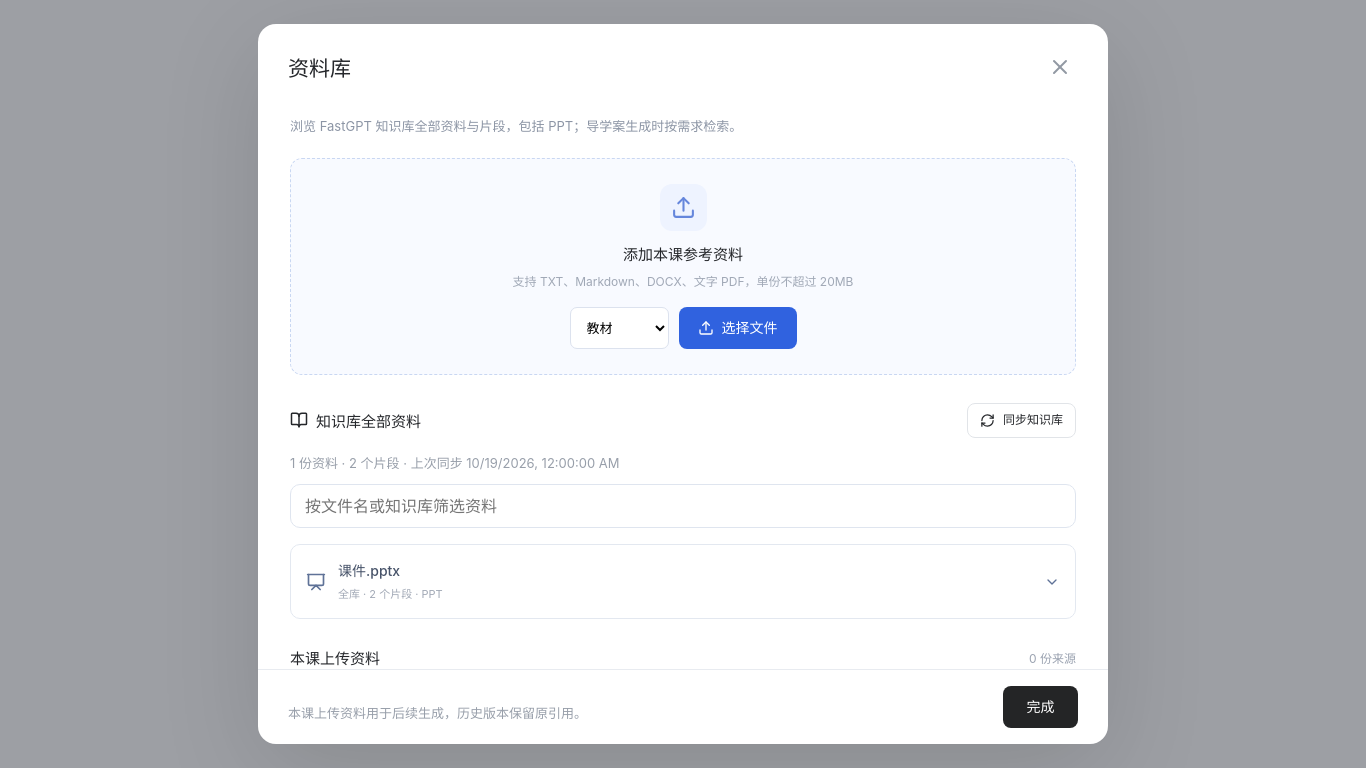
Scenario: library shows all knowledge chunks and PPT original rather than session recall
The width and height of the screenshot is (1366, 768).
Click the button "课件.pptx 全库 · 2 个片段 · PPT": coordinates (369, 570) [291, 545, 1075, 618]
(page scrolled)
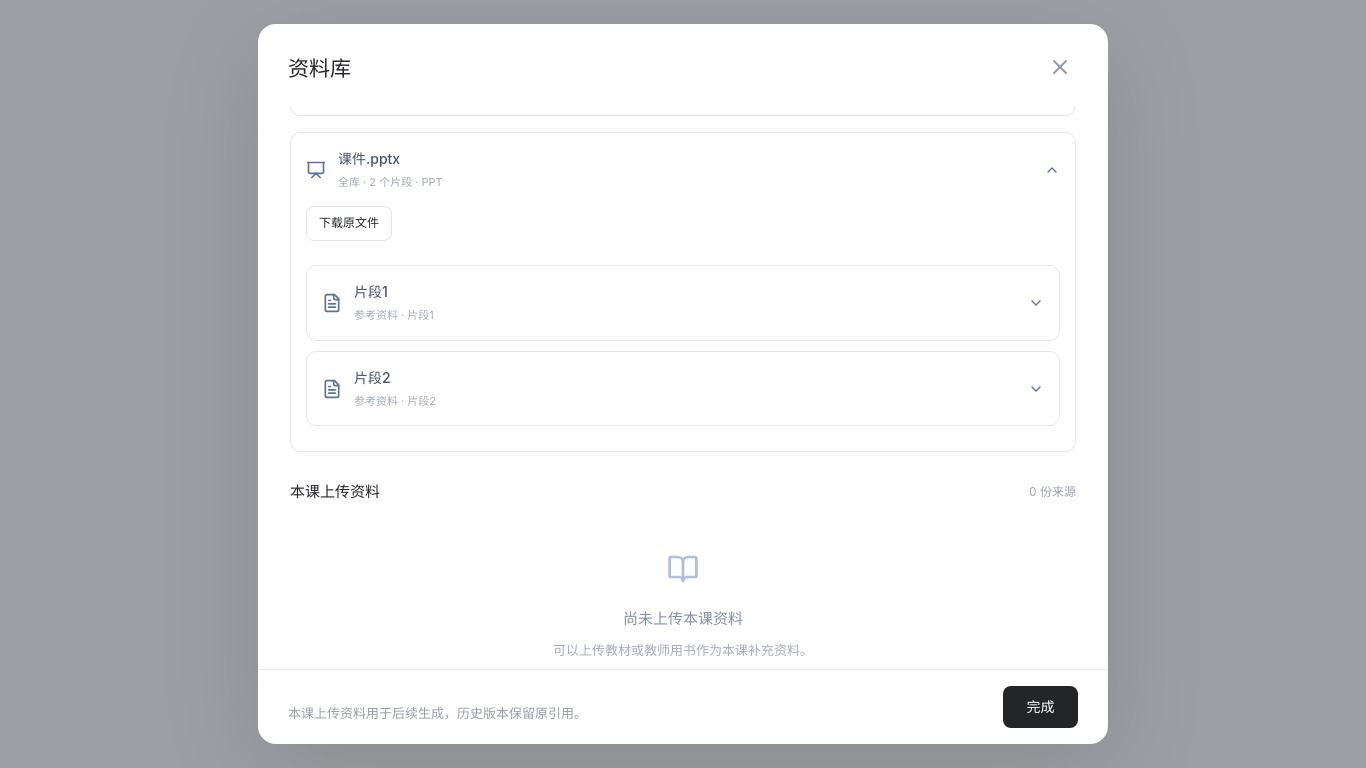
Click the button "片段2 参考资料 · 片段2": coordinates (372, 377) [307, 352, 1059, 426]
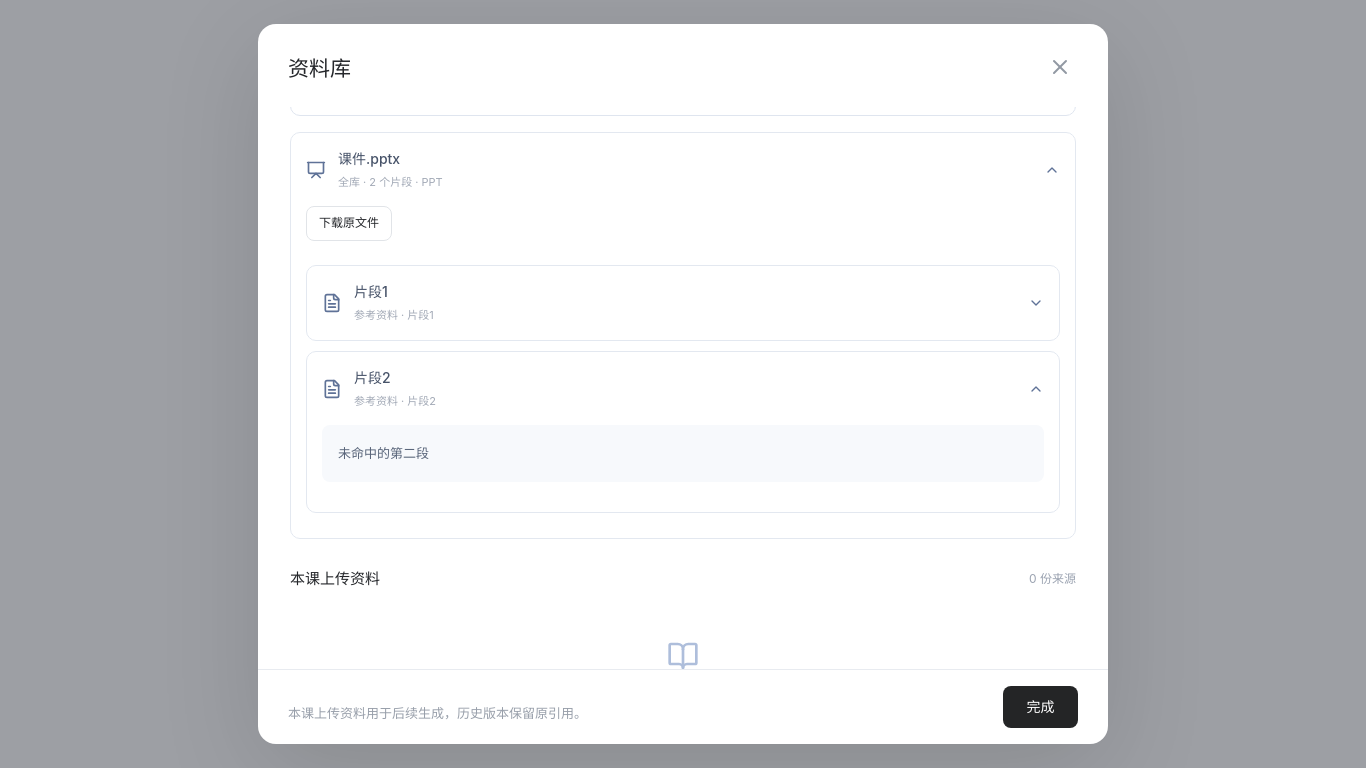
Expected: the text "未命中的第二段" is shown, [338, 446, 429, 462]
